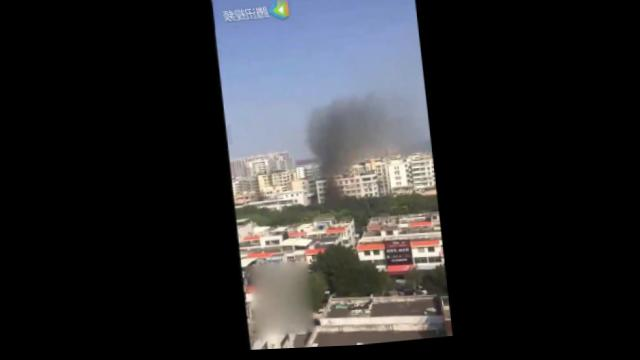smoke: (297, 90, 388, 170)
